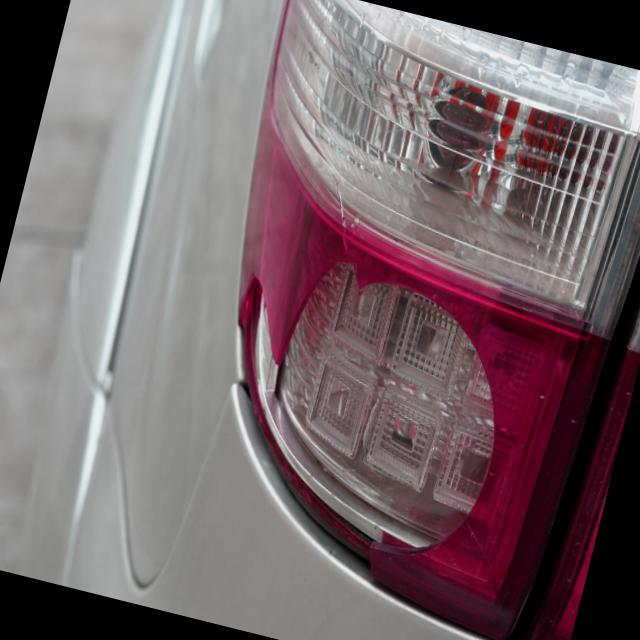Phare abime: (176, 216, 535, 604)
